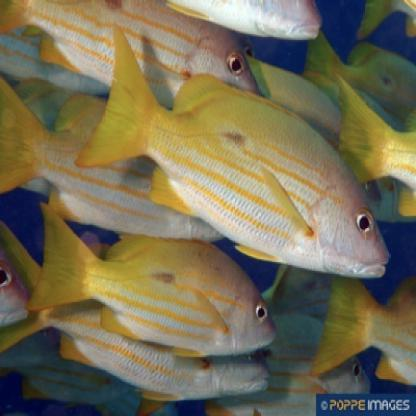Lutjanidae -Snappers-: (66, 19, 395, 285), (23, 197, 282, 366)
